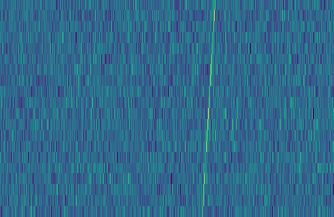signal: (198, 0, 220, 217)
